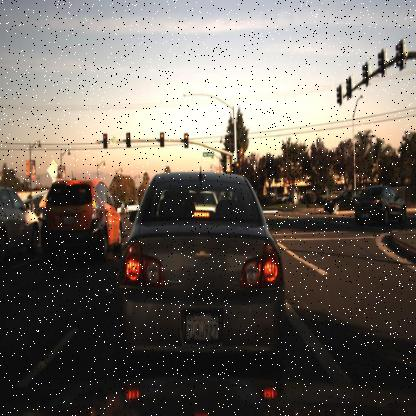car: (119, 172, 285, 369), (39, 175, 122, 271), (0, 192, 38, 262), (354, 184, 405, 228), (322, 188, 372, 215), (321, 186, 354, 219), (124, 197, 140, 214)
trafficLight-Red: (182, 130, 192, 149), (233, 156, 241, 171), (102, 132, 110, 144), (125, 130, 133, 142), (160, 131, 165, 149)
trafficLight-RedLeft: (124, 127, 132, 148), (100, 131, 108, 150)
